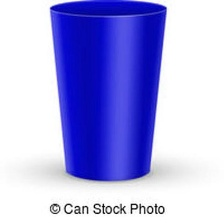glass: (46, 0, 171, 186)
